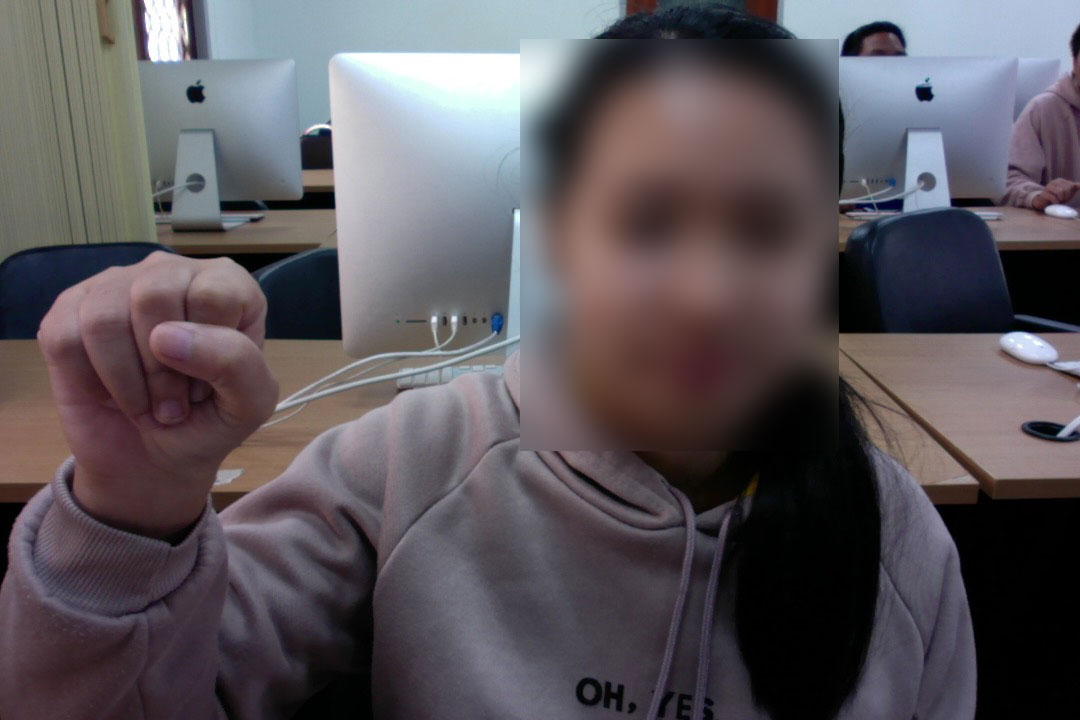sor: (31, 245, 283, 520)
